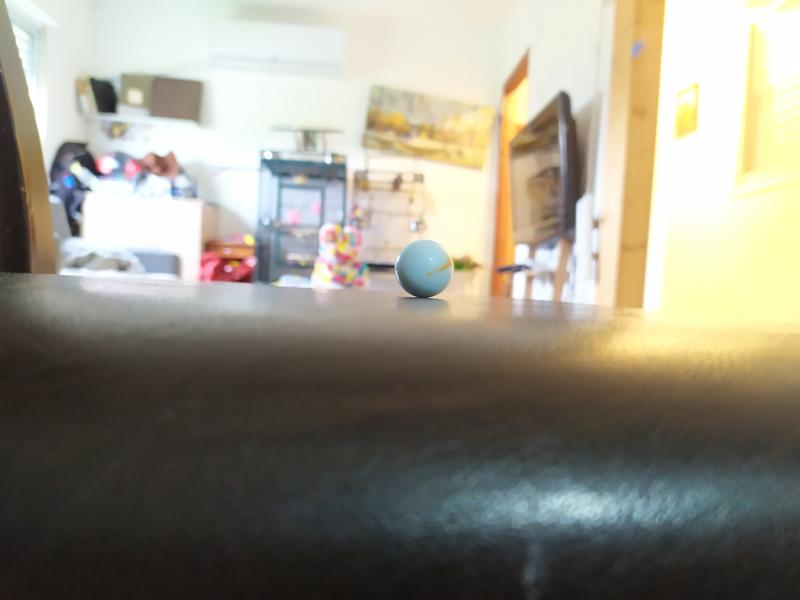Warning: (393, 237, 457, 299)
